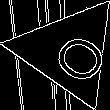O_NW: (32, 19, 105, 84)
